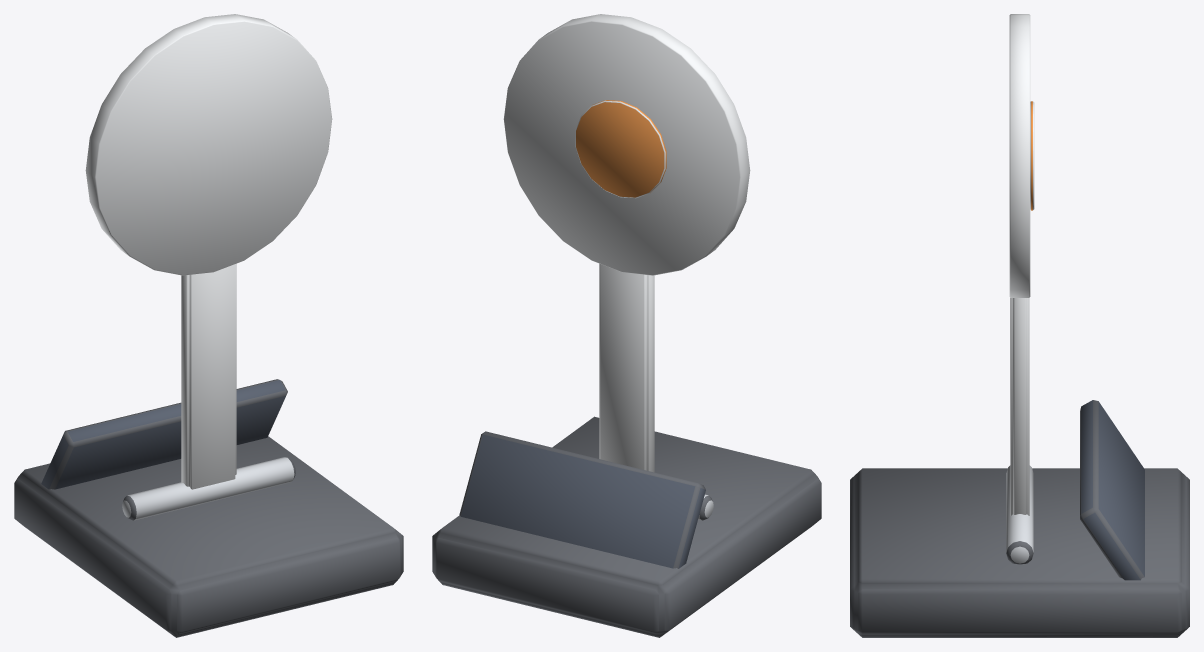
File: OW_Range_SteelPlate.fbx
3 renders of one model, left to right at view 1: azimuth 30°, elevation 25°; view 2: azimuth 150°, elevation 25°; view 3: azimuth 270°, elevation 25°, orthographic. The views are drawn at different scales.
Visible parts, largest first — view 1: Part_Plate, SteelPlate_Base; view 2: Part_Plate, SteelPlate_Base; view 3: SteelPlate_Base, Part_Plate.
Boxes of the visible parts, x1,y1,x2,y2 form: Part_Plate: (85, 14, 332, 489); SteelPlate_Base: (14, 379, 403, 637); Part_Plate: (503, 14, 750, 472); SteelPlate_Base: (432, 416, 821, 637); SteelPlate_Base: (850, 400, 1189, 637); Part_Plate: (1009, 14, 1034, 515).
Bounding box in the file's own units: 52 × 112 × 62.
